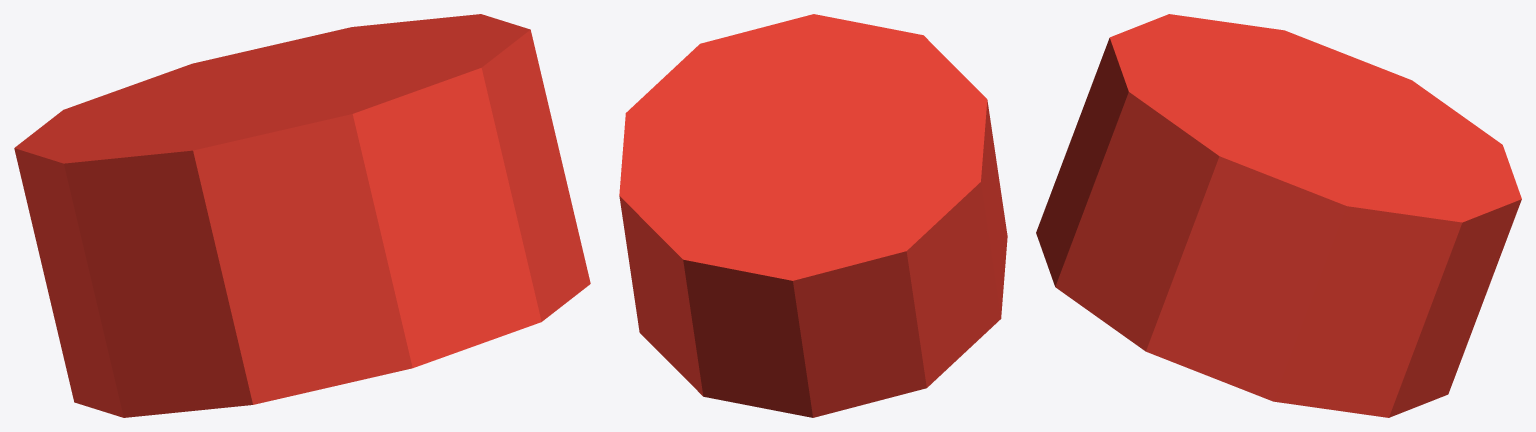
The model's file is group671822753_lev3.002.glb.
3 renders of one model, left to right at view 1: azimuth 30°, elevation 25°; view 2: azimuth 150°, elevation 25°; view 3: azimuth 270°, elevation 25°, orthographic. The views are drawn at different scales.
Visible parts, largest first — view 1: group671822753_lev3.002; view 2: group671822753_lev3.002; view 3: group671822753_lev3.002.
Boxes of the visible parts, bbox=[...] form: group671822753_lev3.002: bbox=[14, 14, 590, 417]; group671822753_lev3.002: bbox=[619, 14, 1007, 417]; group671822753_lev3.002: bbox=[1036, 14, 1521, 417].
Bounding box in the file's own units: 0.5631 × 0.4395 × 0.6025.
